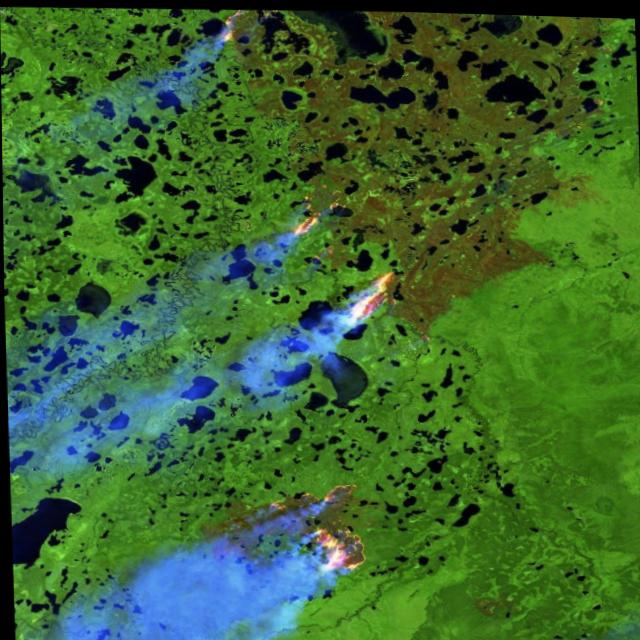fire: (254, 470, 383, 581), (332, 256, 418, 339), (280, 174, 356, 245), (203, 6, 274, 57)
